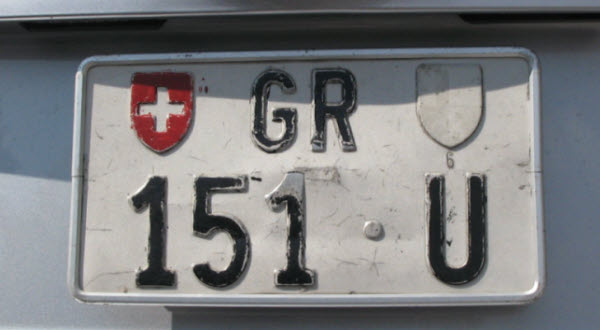license_plate: (66, 46, 547, 308)
